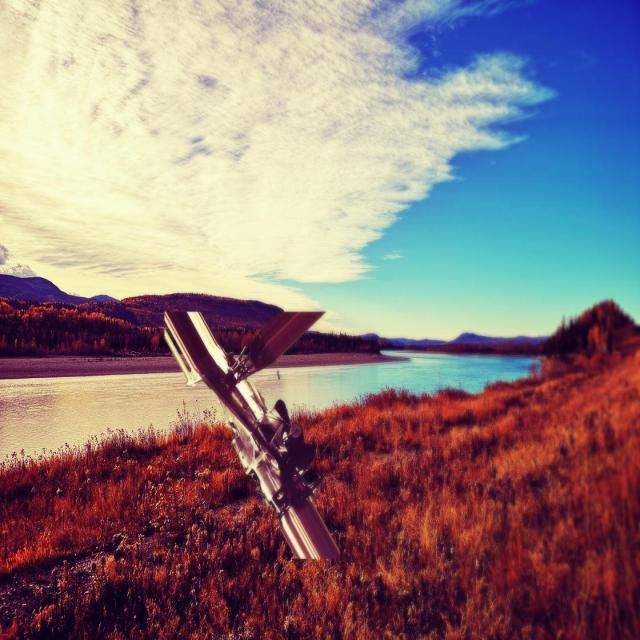airplane: (162, 308, 341, 560)
